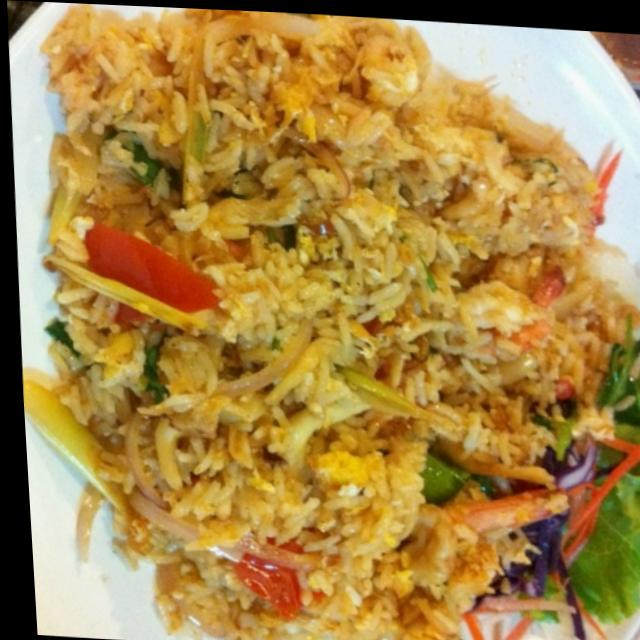米饭主食: (25, 13, 640, 640)
